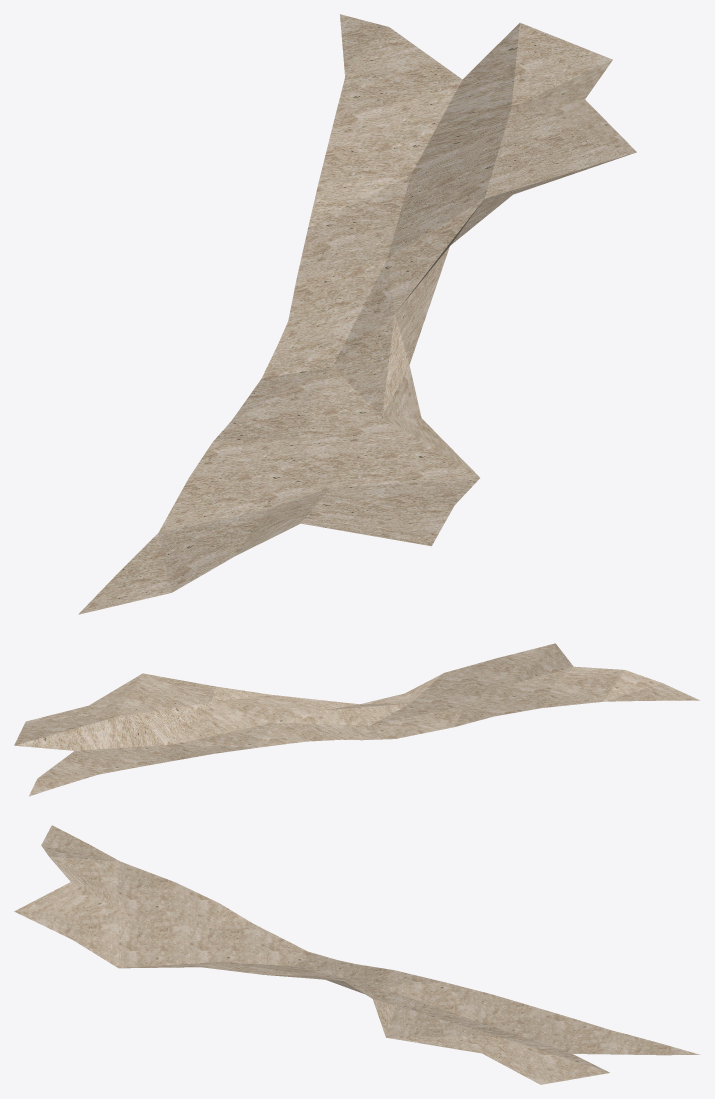
File: sbcs_seabit16_new.obj
3 views of the same model, one above another, from view 1: azimuth 30°, elevation 25°; view 2: azimuth 150°, elevation 25°; view 3: azimuth 270°, elevation 25° (orthographic). The views are drawn at different scales.
Parts seen in each view (by area): view 1: sbcs_seabit16_new; view 2: sbcs_seabit16_new; view 3: sbcs_seabit16_new.
Boxes of the visible parts, x1,y1,x2,y2 form: sbcs_seabit16_new: (78,14,636,614); sbcs_seabit16_new: (14,643,699,796); sbcs_seabit16_new: (14,825,699,1084).
Bounding box in the file's own units: 232 × 16.79 × 244.
